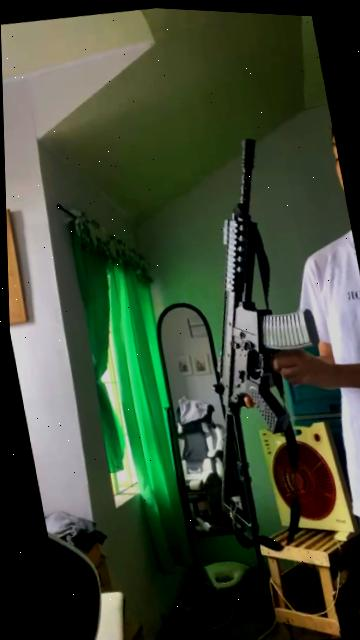rifle: (158, 113, 340, 483)
